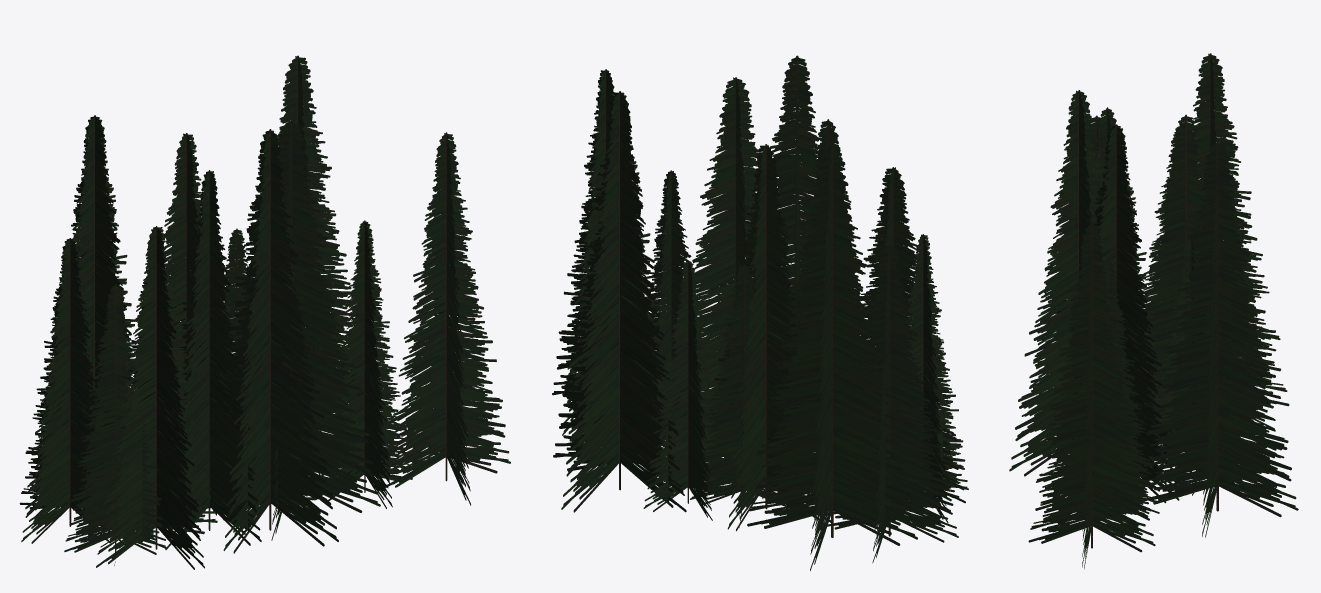
The model's file is S7U_FarConifers_20m_A.fbx.
The picture shows the model from 3 angles, left to right: view 1: azimuth 30°, elevation 25°; view 2: azimuth 150°, elevation 25°; view 3: azimuth 270°, elevation 25°; orthographic projection. The views are drawn at different scales.
Visible parts, largest first — view 1: S7U_FarConifers_20m_A; view 2: S7U_FarConifers_20m_A; view 3: S7U_FarConifers_20m_A.
Boxes of the visible parts, box(x1,y1,x2,y2) form: S7U_FarConifers_20m_A: box(19, 55, 510, 569); S7U_FarConifers_20m_A: box(552, 55, 968, 571); S7U_FarConifers_20m_A: box(1009, 53, 1298, 569).
Size of the model in its own units: 24.64 by 20.81 by 15.17.
